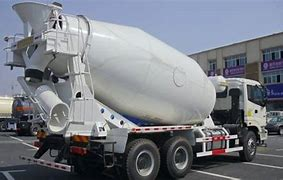specialcar: (14, 9, 270, 173)
